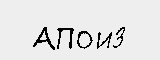А: (33, 26, 55, 49)
З: (113, 27, 126, 49)
И: (94, 31, 112, 51)
О: (78, 29, 92, 49)
П: (54, 29, 76, 50)
